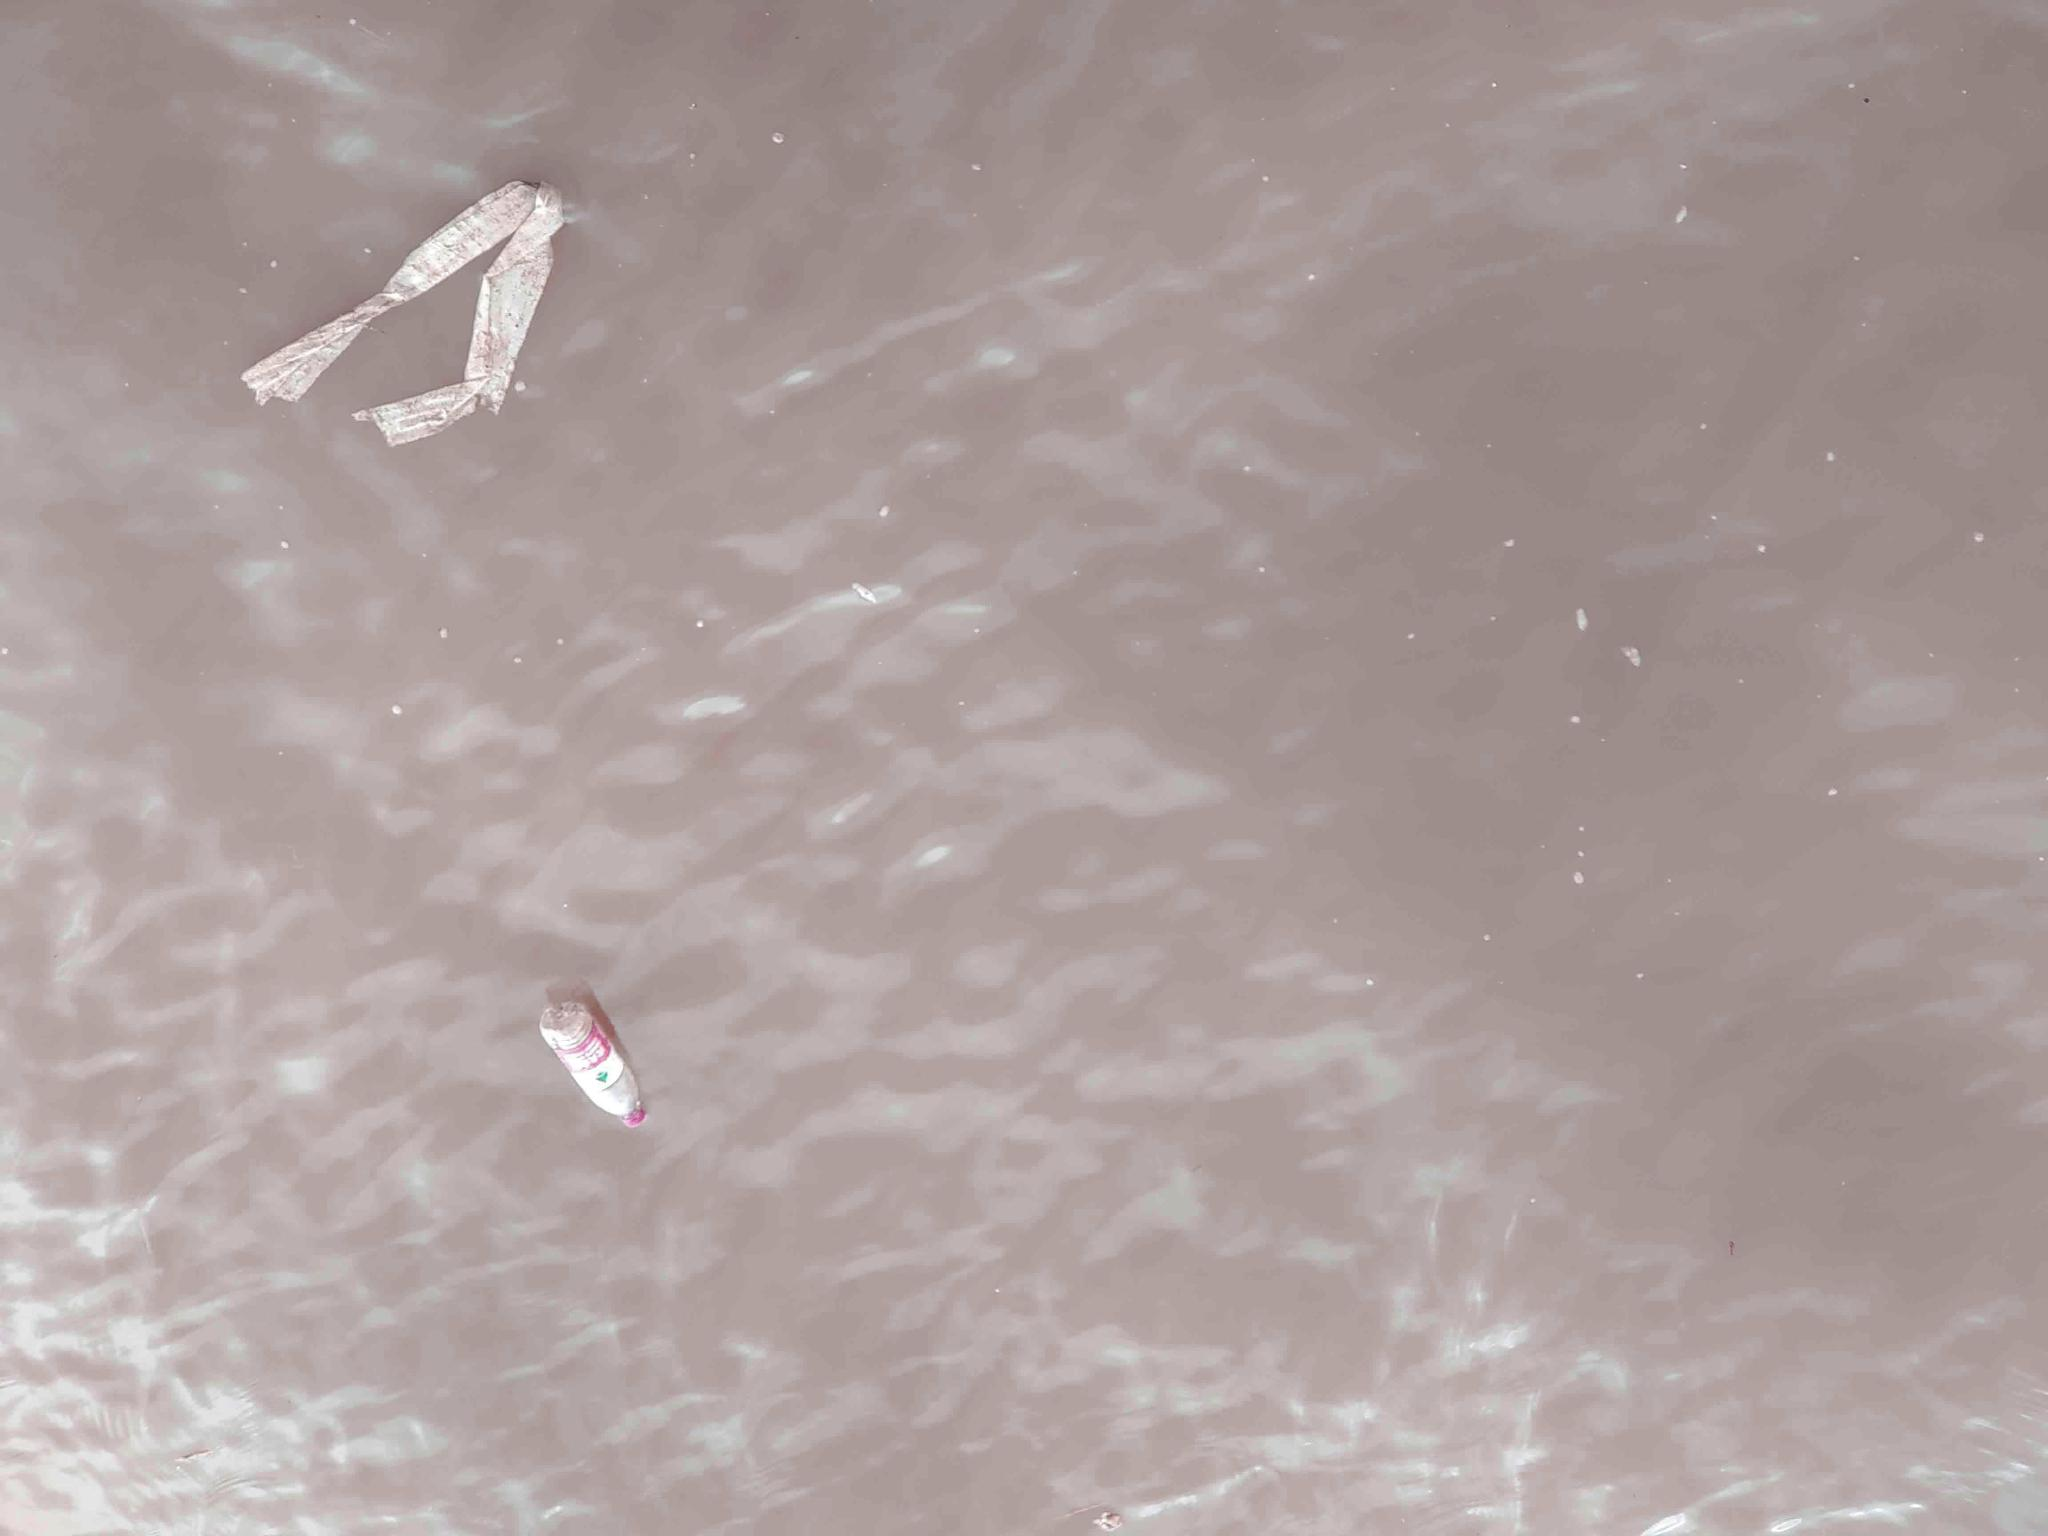Plastic: (535, 999, 647, 1137)
